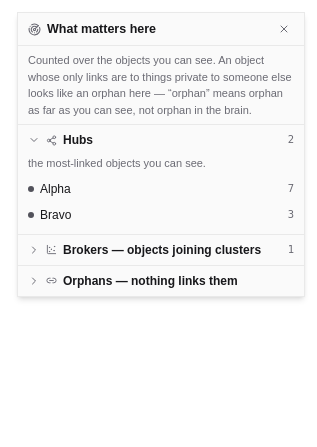
InsightPanelView › suppresses orphans on a sampled graph instead of asserting there are none
Click the button "Orphans — nothing links them" at point(161, 280), box top-left (18, 266), bottom-right (304, 296)
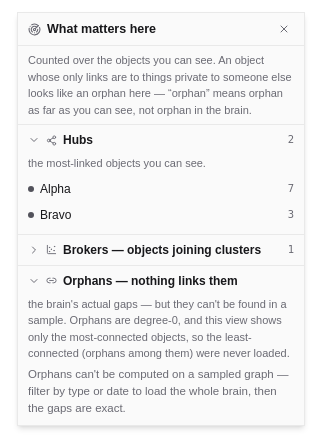
Now the text "can't be computed on a sampled graph" is shown, box top-left (28, 368), bottom-right (288, 414)
